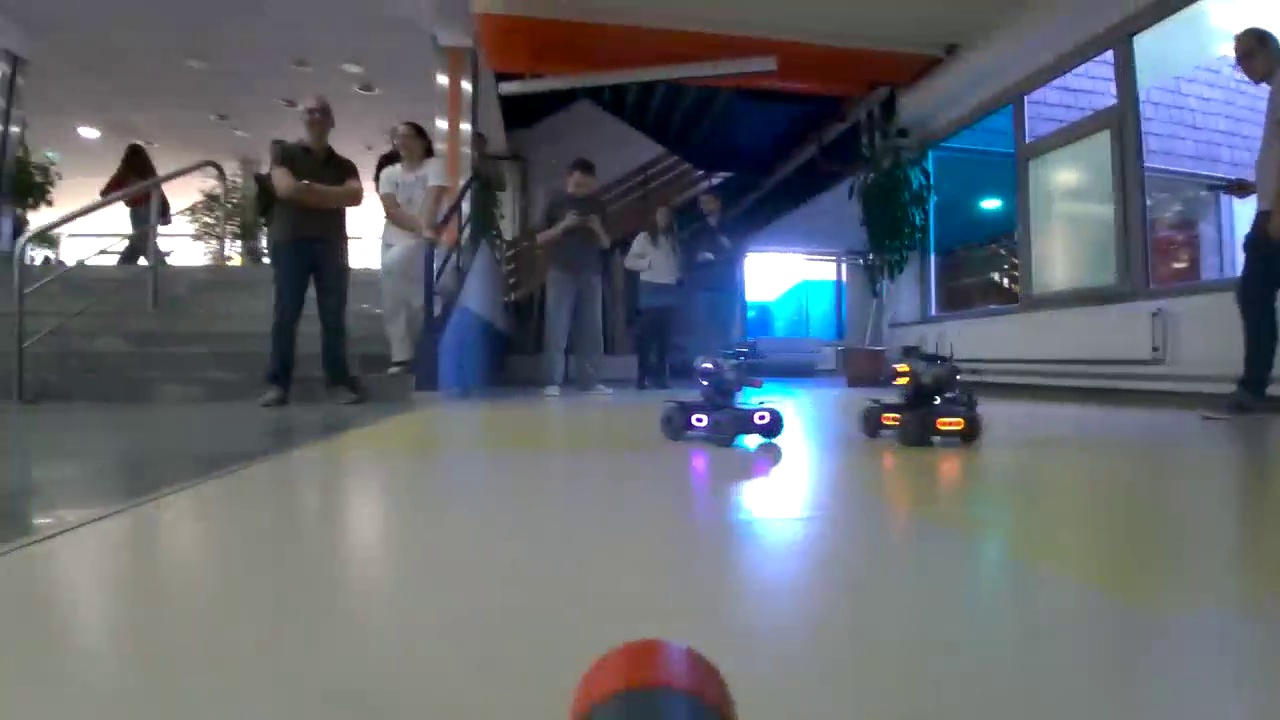robot: (866, 362, 990, 444), (666, 357, 774, 448)
